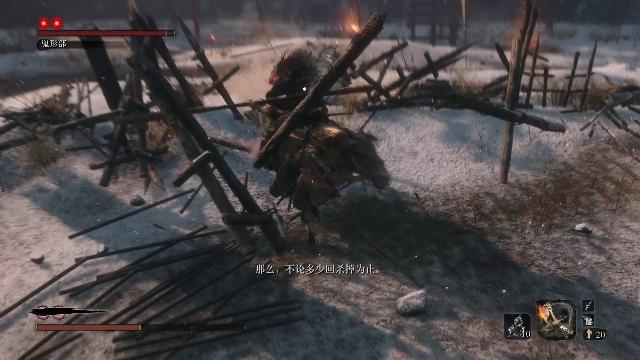sk: (287, 130, 346, 249)
